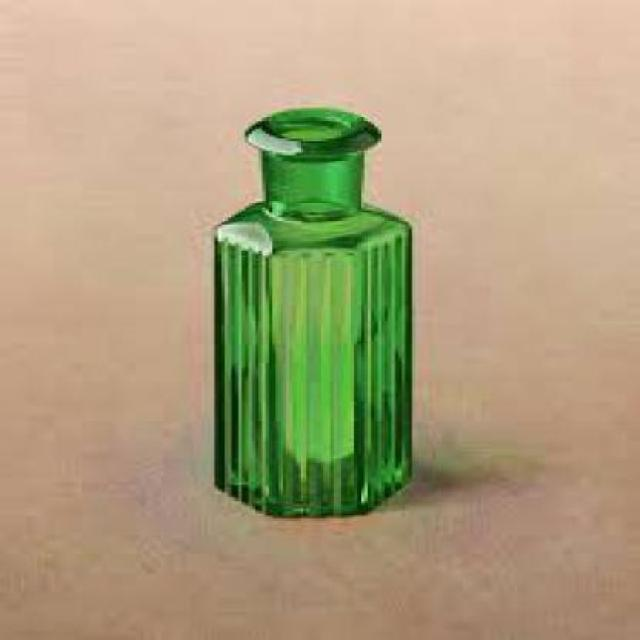kaca: (211, 106, 409, 517)
